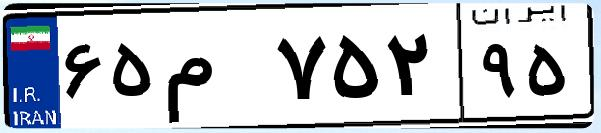2: (385, 28, 445, 110)
5: (330, 28, 385, 110), (525, 38, 570, 115), (110, 28, 158, 98)
6: (57, 26, 110, 100)
7: (270, 28, 330, 110)
9: (475, 38, 525, 113)
م: (158, 20, 270, 120)
